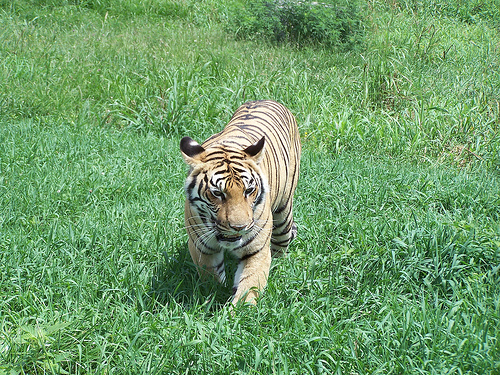Tigre: (152, 80, 324, 312)
